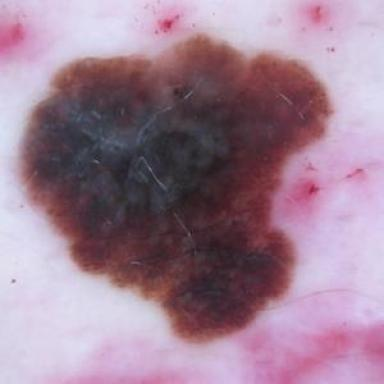Melanoma: (22, 35, 331, 340)
